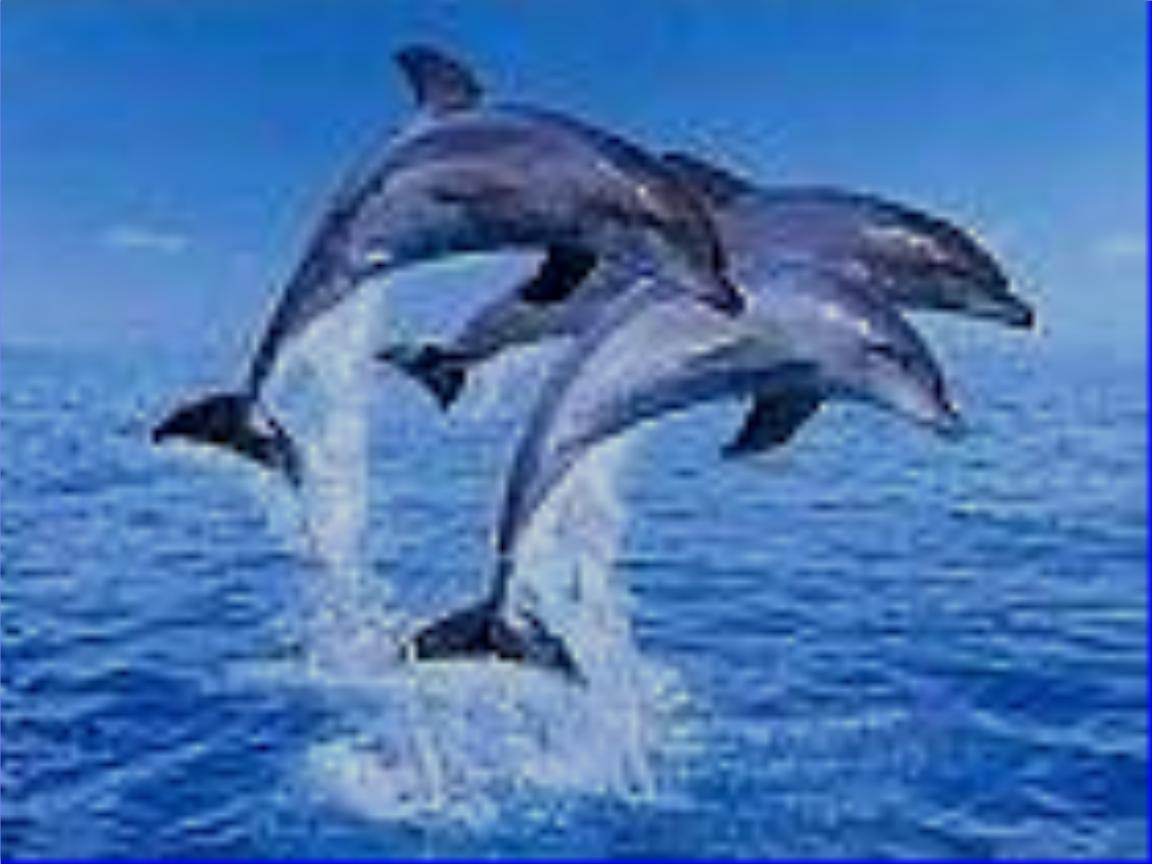fish: (148, 43, 745, 492), (400, 249, 964, 690), (378, 144, 1034, 411)
